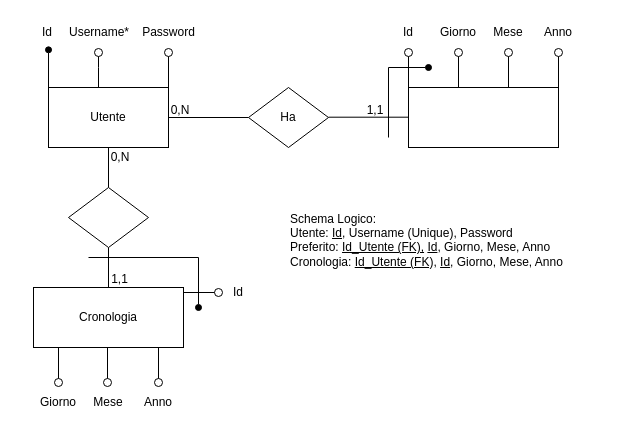
Some shapes in this 625 by 434 pixel diagram are drawn without their labels. The shapes that lost their labels are listed below. From the top down, each one's box as (x1, y1, x2, y2) in pixels, then its label:
(408, 86, 558, 148): Preferito
(68, 186, 148, 248): Ha_Visto
